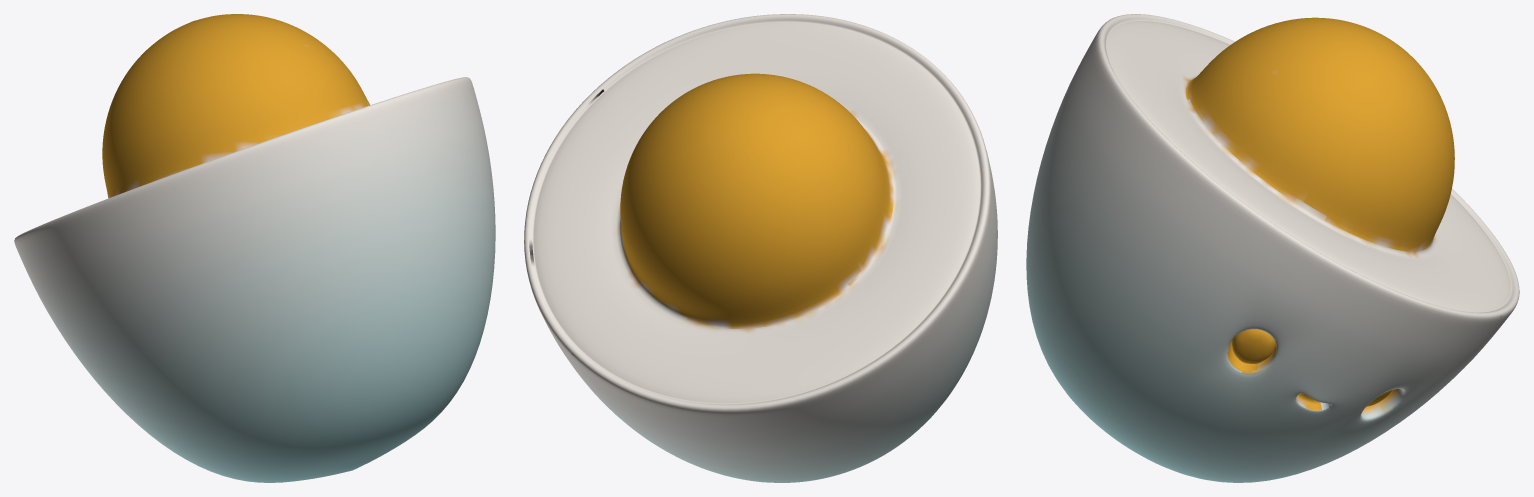
The picture shows the model from 3 angles, left to right: view 1: azimuth 30°, elevation 25°; view 2: azimuth 150°, elevation 25°; view 3: azimuth 270°, elevation 25°; orthographic projection. The views are drawn at different scales.
Visible parts, largest first — view 1: Sphere.026; view 2: Sphere.026; view 3: Sphere.026.
Part boxes in pixels (<box>): Sphere.026: <box>14,14,495,482</box>; Sphere.026: <box>524,14,997,482</box>; Sphere.026: <box>1026,14,1519,482</box>.
Bounding box in the file's own units: 0.9227 × 0.8718 × 0.9115.
Materials: 1 (1 with a texture image).
